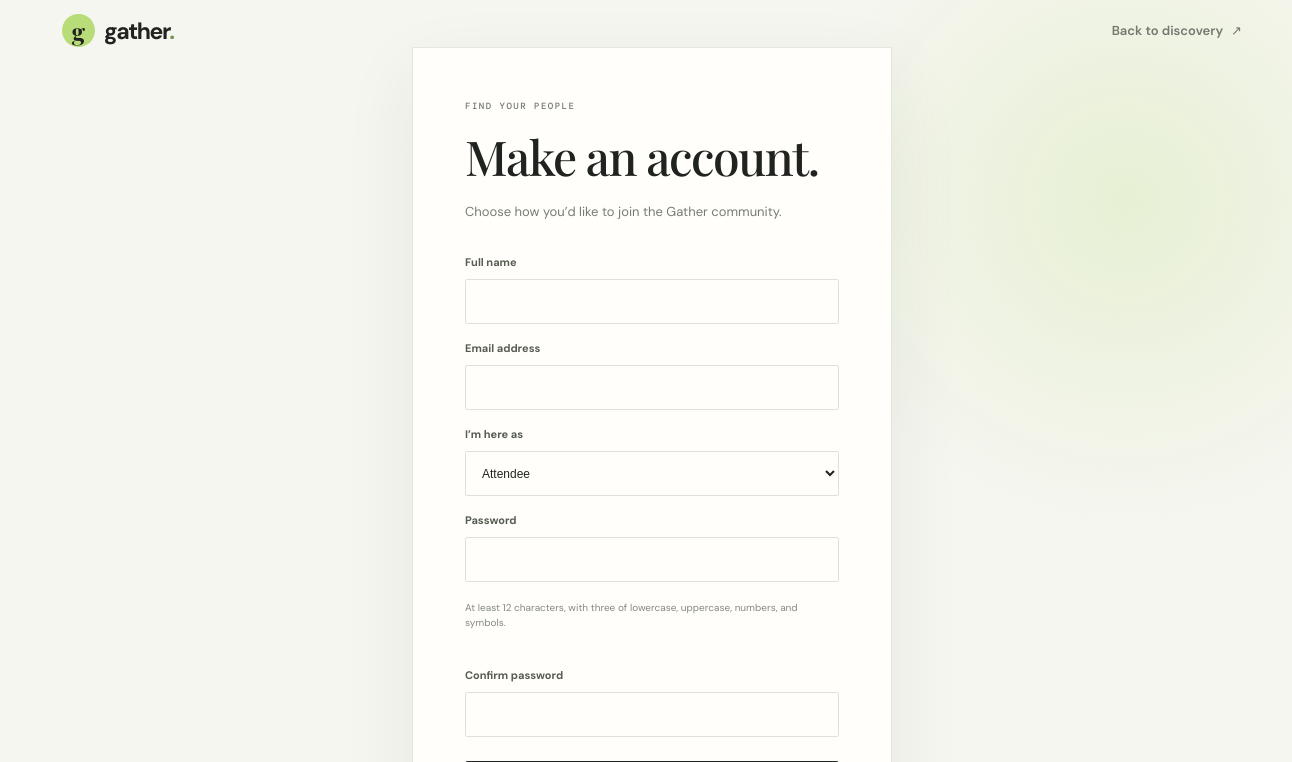
Test: authentication and role routing › validates password strength and matching confirmation before registration
Type "Avery" into the field labelled "Full name" at [652, 302], box [465,279,839,324]
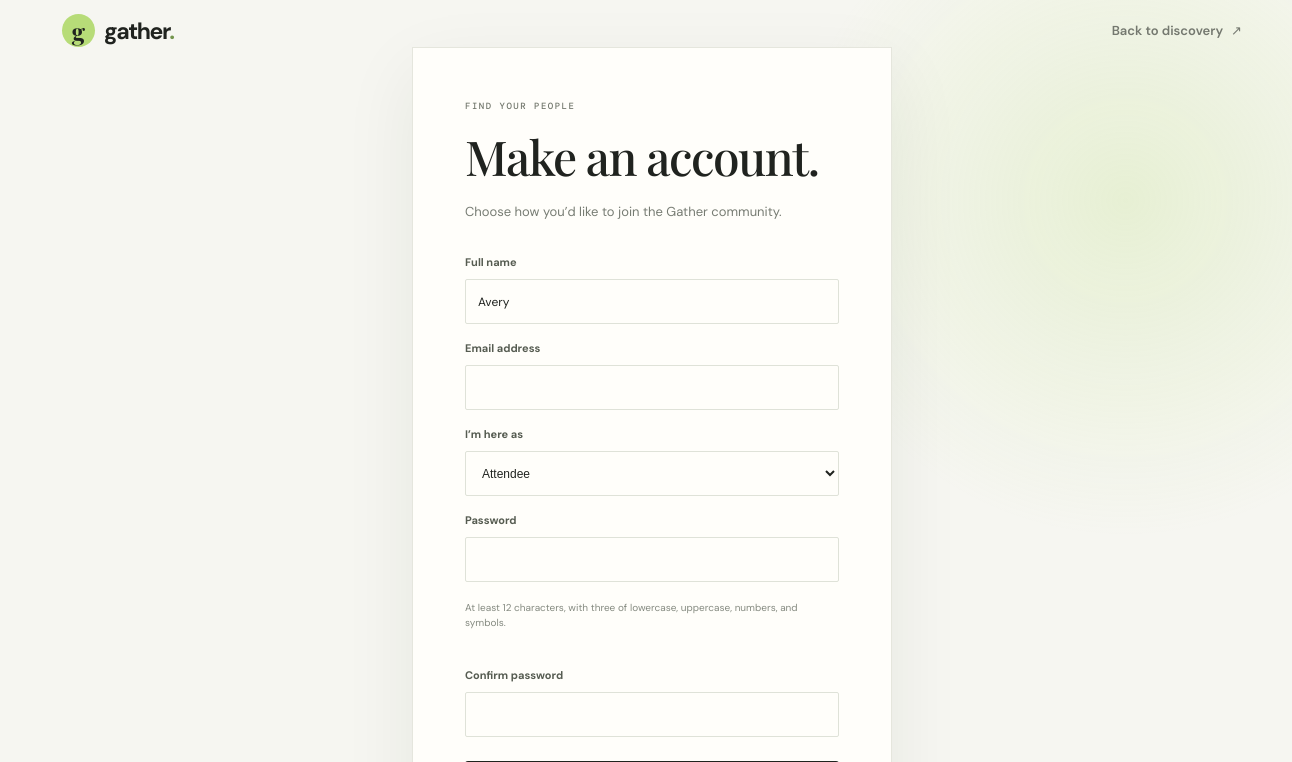
Type "avery@example.com" into the field labelled "Email address" at [652, 388], box [465,365,839,410]
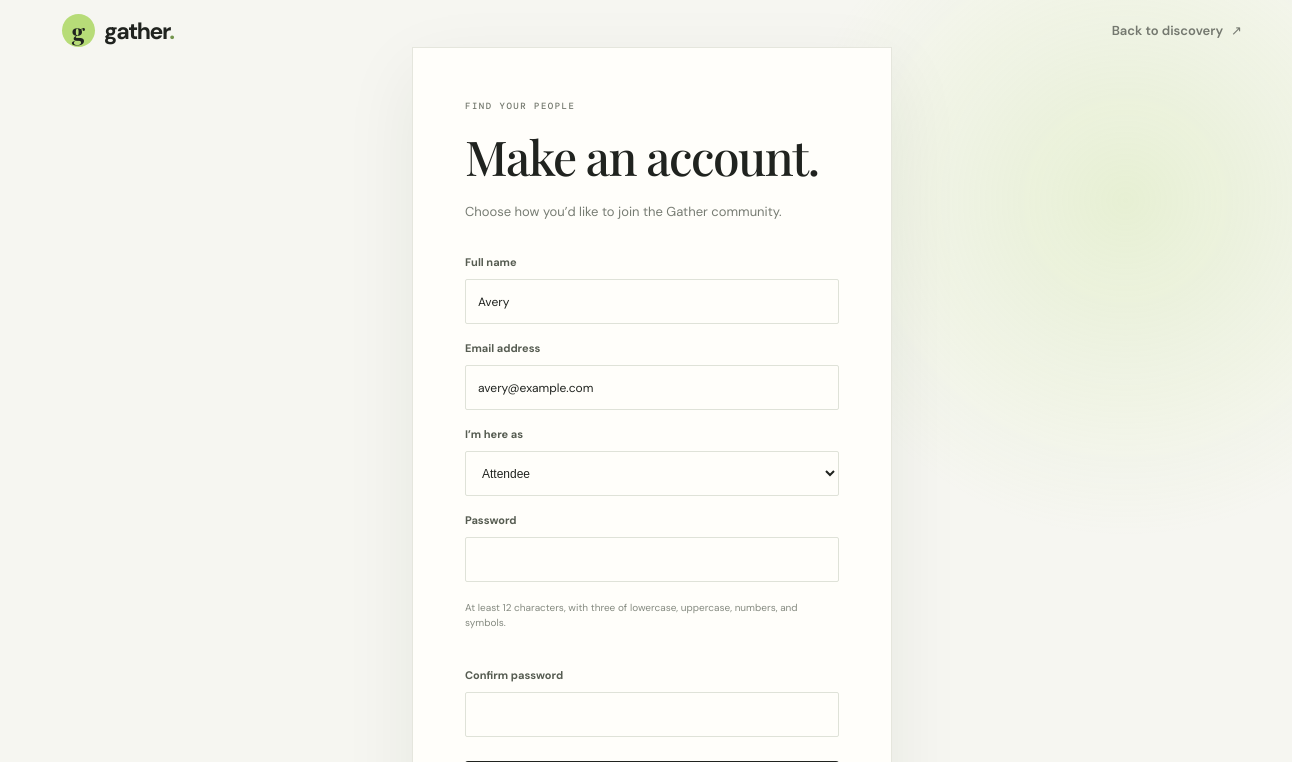
Type "weakpassword" into the password field labelled "Password" at [652, 560], box [465,537,839,582]
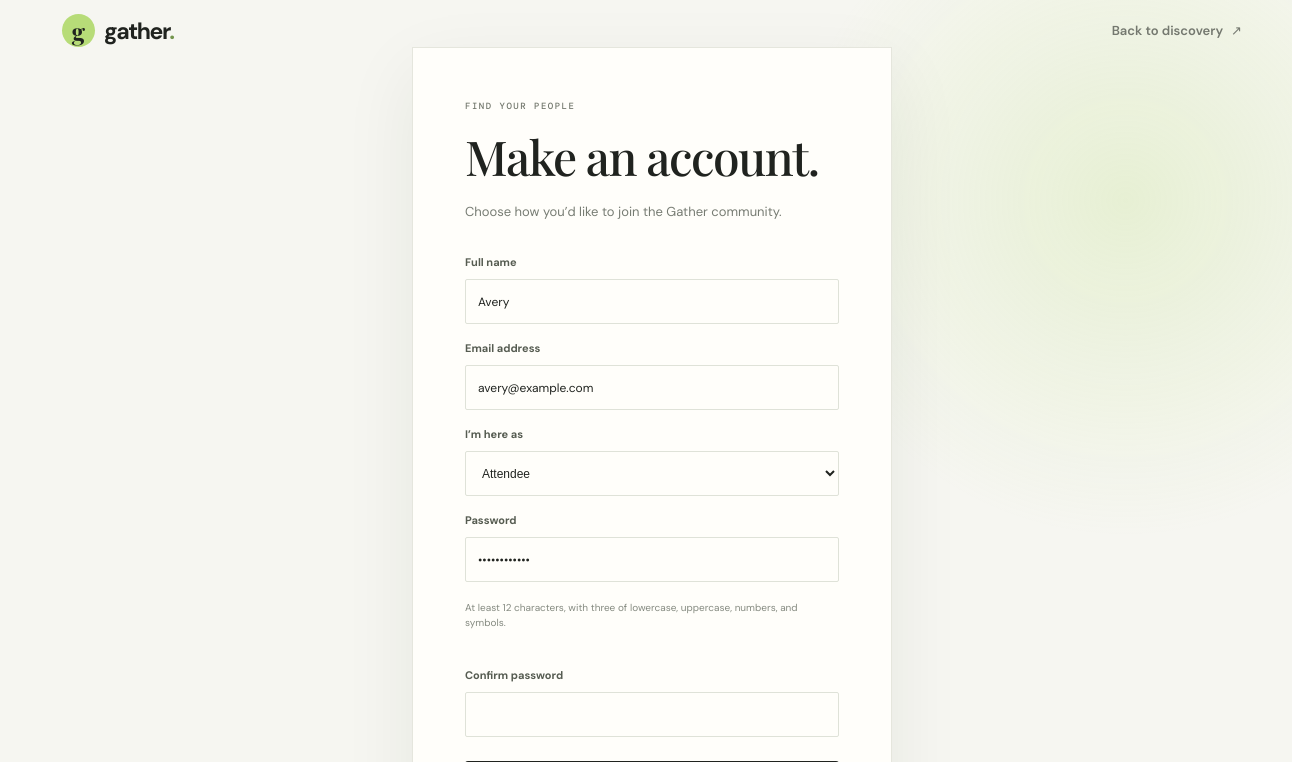
Type "differentpassword" into the password field labelled "Confirm password" at [652, 715], box [465,692,839,737]
(page scrolled)
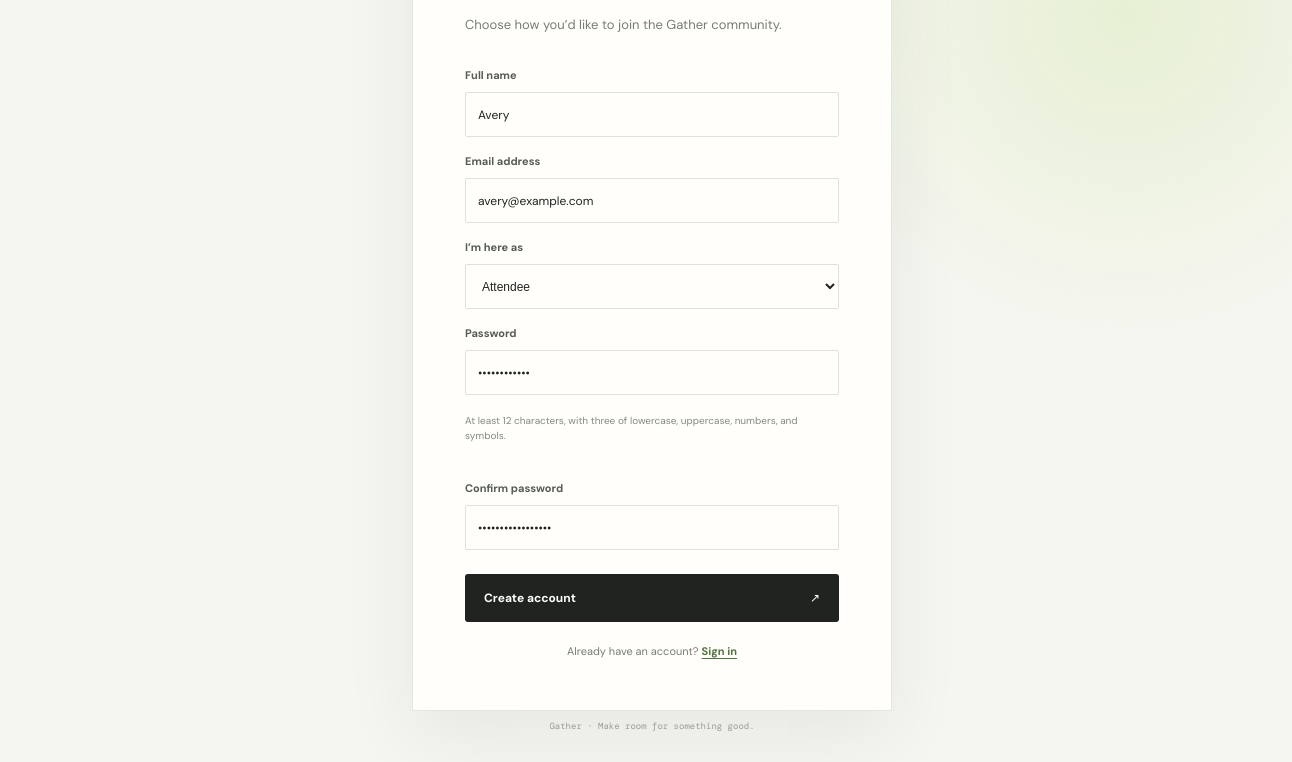
Click the button "Create account ↗" at [530, 598], box [465,574,839,622]
(page scrolled)
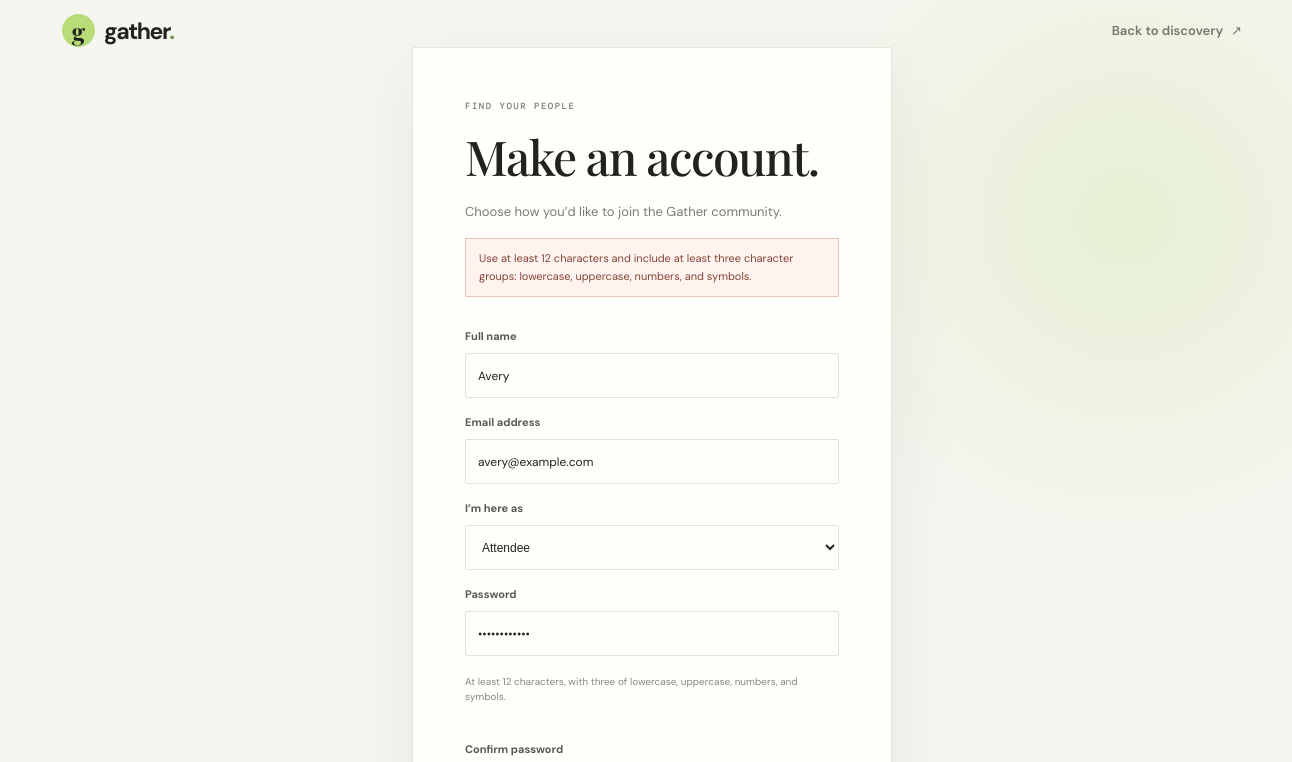
Expected: the message shows "at least 12 characters", [479,251,793,283]
